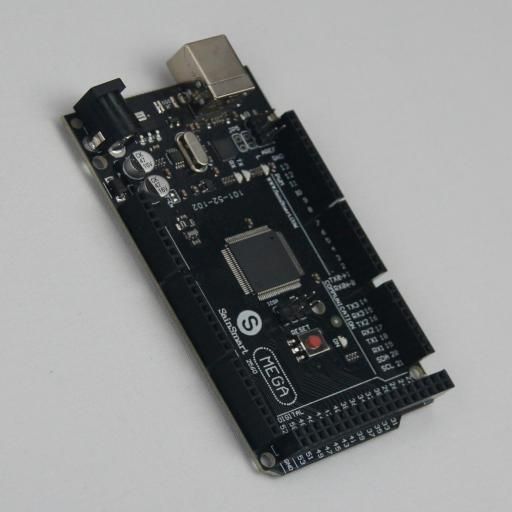Arduino Mega 2560 -Black-: (60, 35, 454, 477)
